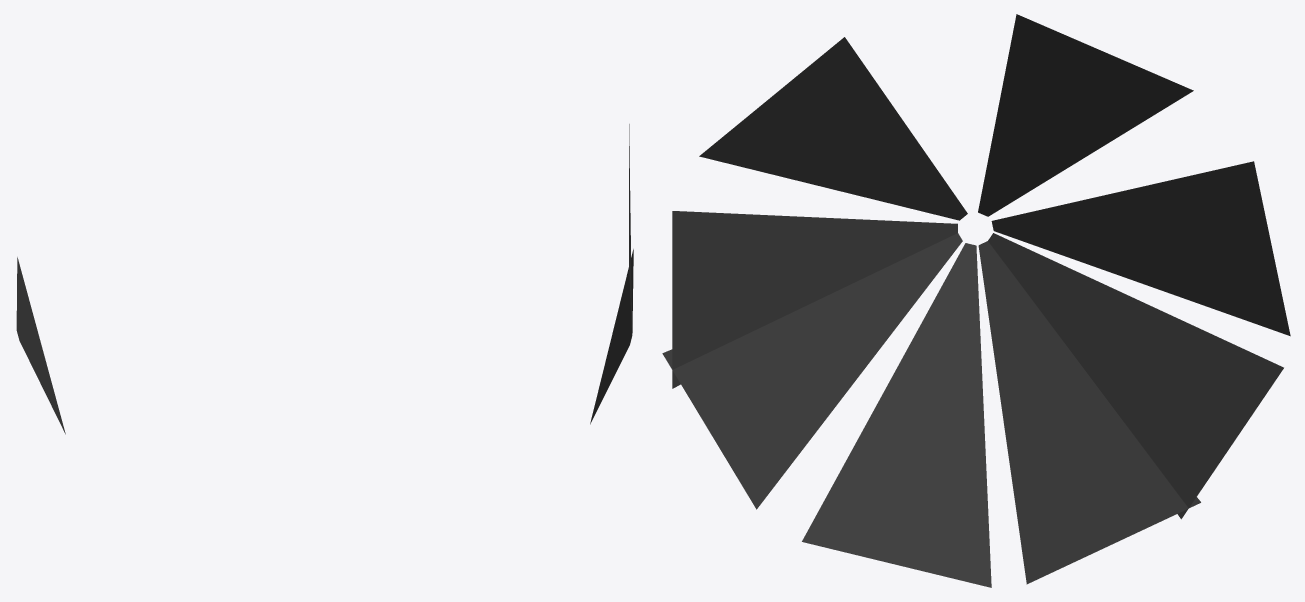
File: 14c5f97439fa_1_Shock_Rainbow01.glb
The picture shows the model from 3 angles, left to right: view 1: azimuth 30°, elevation 25°; view 2: azimuth 150°, elevation 25°; view 3: azimuth 270°, elevation 25°; orthographic projection. The views are drawn at different scales.
Visible parts, largest first — view 1: 14c5f97439fa_1_Shock_Rainbow01.obj; view 2: 14c5f97439fa_1_Shock_Rainbow01.obj; view 3: 14c5f97439fa_1_Shock_Rainbow01.obj.
Boxes of the visible parts, left/top/right/bottom form: 14c5f97439fa_1_Shock_Rainbow01.obj: left=16, top=257, right=65, bottom=434; 14c5f97439fa_1_Shock_Rainbow01.obj: left=590, top=124, right=633, bottom=424; 14c5f97439fa_1_Shock_Rainbow01.obj: left=662, top=14, right=1290, bottom=587.
Size of the model in its own units: 0.0265 by 0.0995 by 0.0987.
1 material, 1 textured.
